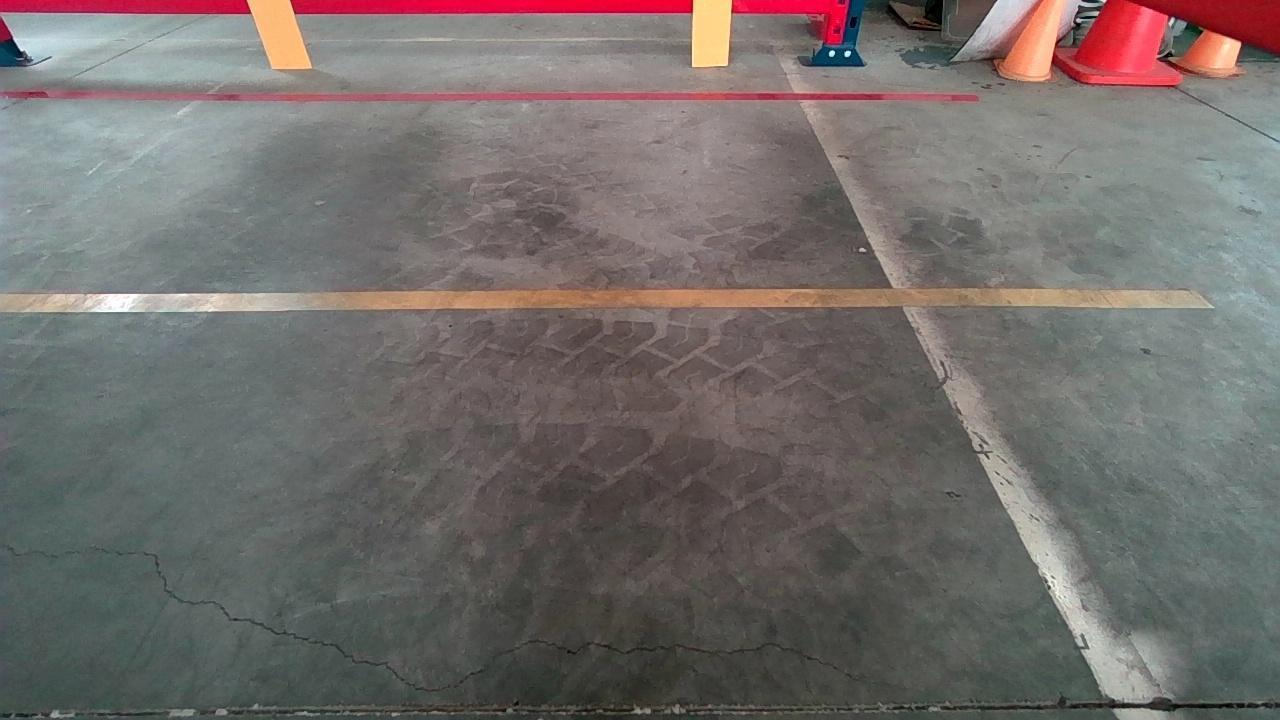orange_strip: (246, 0, 312, 67), (692, 0, 731, 64)
red_line: (22, 82, 972, 112)
yellow_line: (7, 283, 1201, 324)
